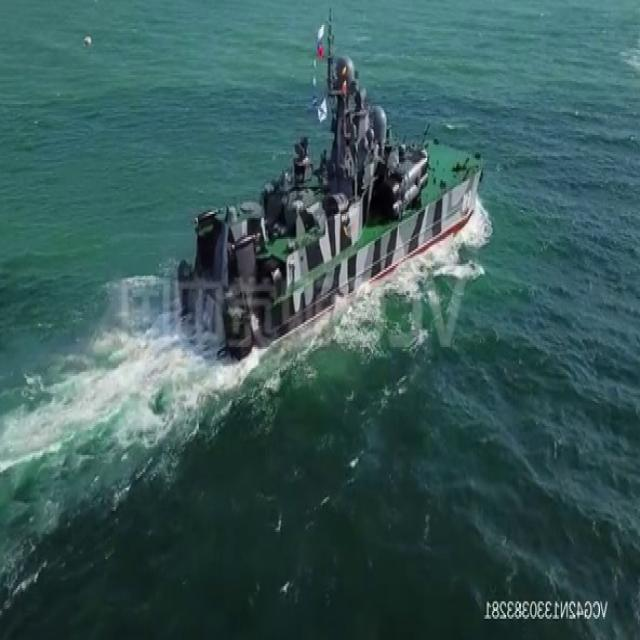houseboat: (170, 47, 490, 355)
